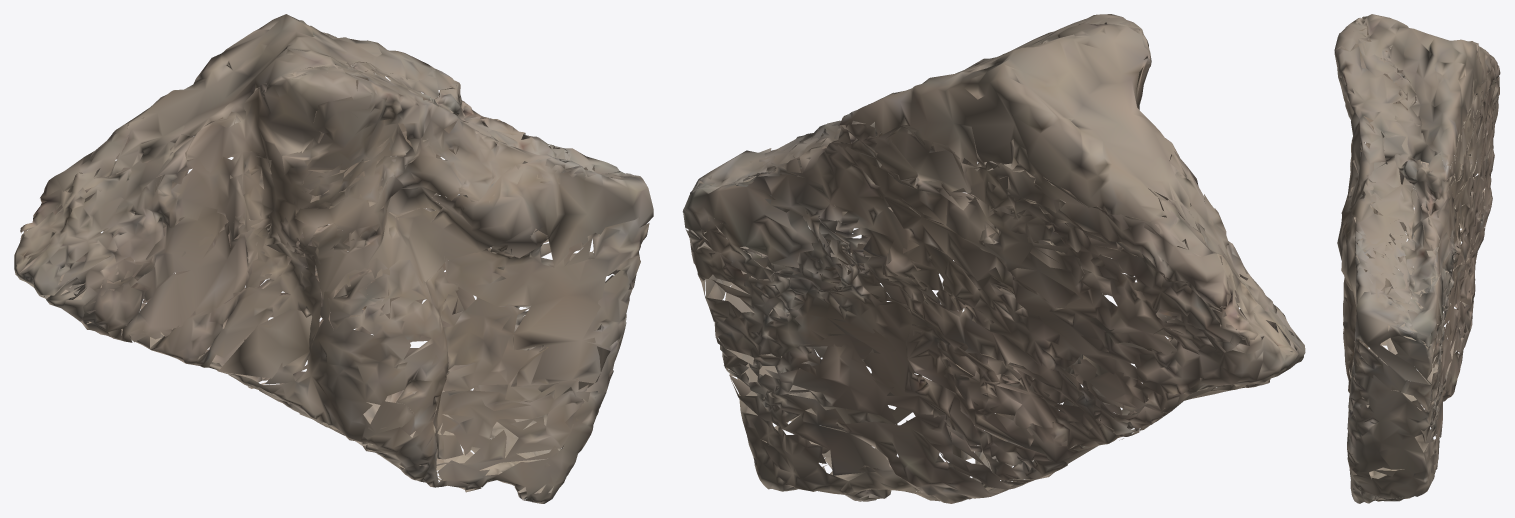
The model's file is sf-cosa-campana-plaque.glb.
The picture shows the model from 3 angles, left to right: view 1: azimuth 30°, elevation 25°; view 2: azimuth 150°, elevation 25°; view 3: azimuth 270°, elevation 25°; orthographic projection. The views are drawn at different scales.
Parts seen in each view (by area): view 1: Geode; view 2: Geode; view 3: Geode.
Boxes of the visible parts, x1,y1,x2,y2 form: Geode: (14,14,653,503); Geode: (682,14,1305,503); Geode: (1334,14,1500,503).
Size of the model in its own units: 0.1217 by 0.0988 by 0.0378.
